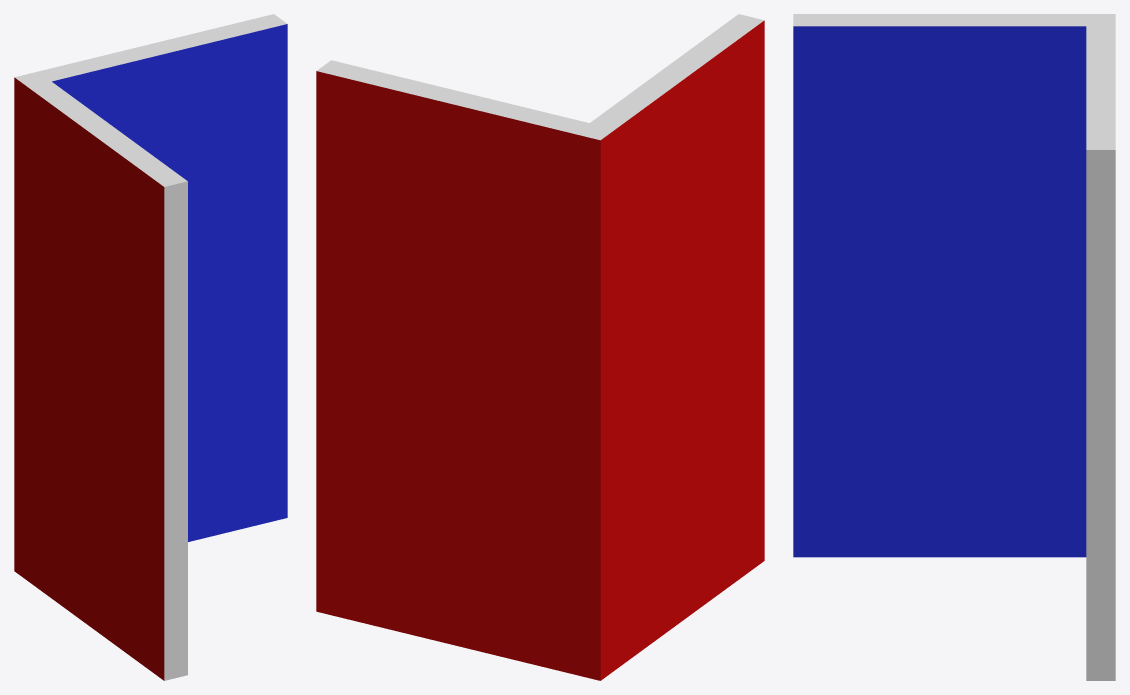
File: Mesh_wall_corner_corridor.fbx
3 views of the same model, side by side, from view 1: azimuth 30°, elevation 25°; view 2: azimuth 150°, elevation 25°; view 3: azimuth 270°, elevation 25° (orthographic). The views are drawn at different scales.
Parts seen in each view (by area): view 1: mesh_wall_corner; view 2: mesh_wall_corner; view 3: mesh_wall_corner.
Part boxes in pixels (x1,y1,x2,y2): mesh_wall_corner: (14,14,287,680); mesh_wall_corner: (316,14,764,680); mesh_wall_corner: (793,14,1115,680).
Bounding box in the file's own units: 1.79 × 3.25 × 1.79.
